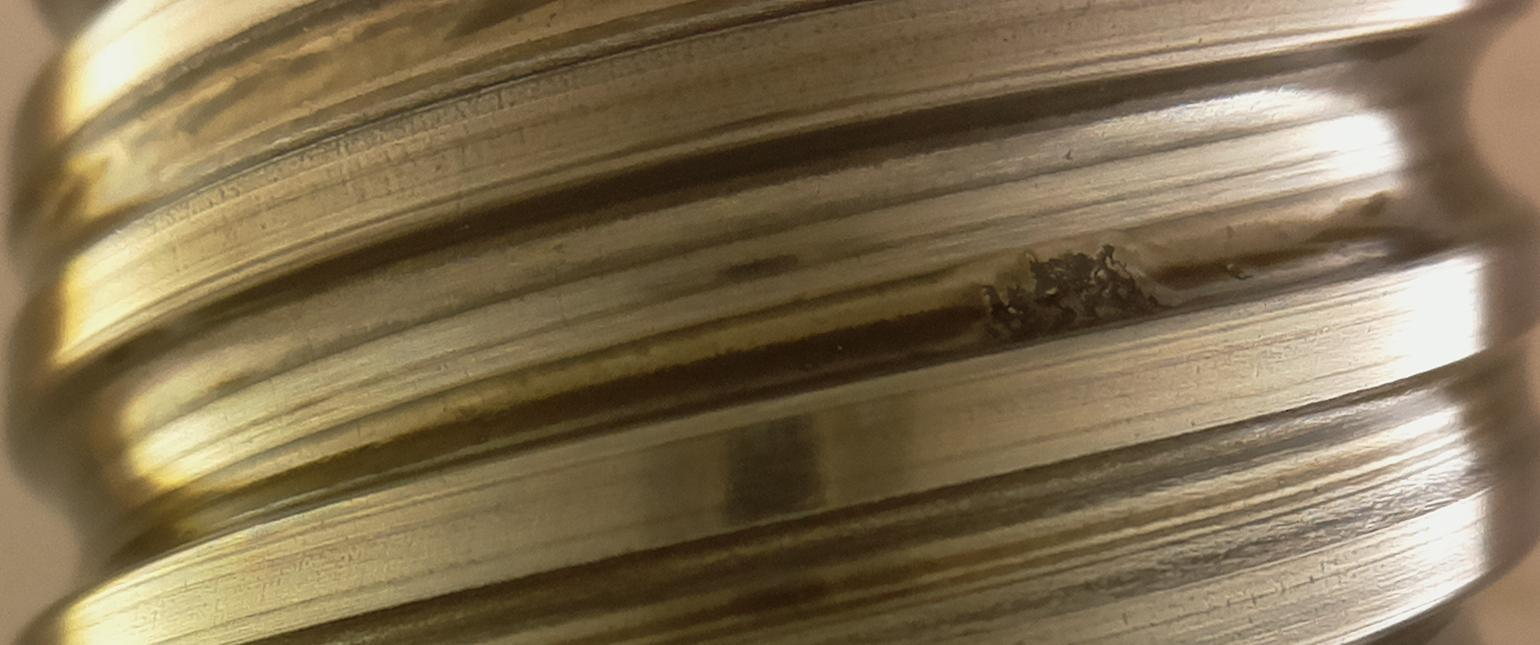pitting: (982, 243, 1160, 345)
